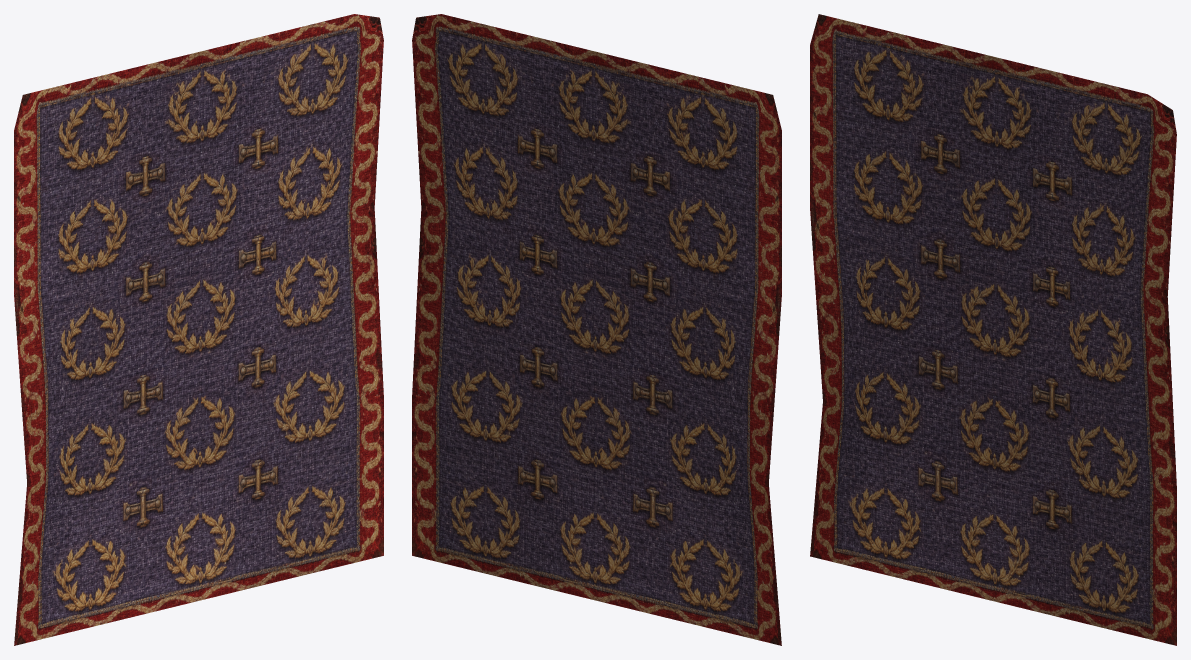
Rendered from mm9_deco_tapestry_purple.glb.
3 renders of one model, left to right at view 1: azimuth 30°, elevation 25°; view 2: azimuth 150°, elevation 25°; view 3: azimuth 330°, elevation 25°, orthographic.
Visible parts, largest first — view 1: Tapestry_purple; view 2: Tapestry_purple; view 3: Tapestry_purple.
Part boxes in pixels (x1,y1,x2,y2): Tapestry_purple: (14, 14, 383, 645); Tapestry_purple: (412, 14, 781, 645); Tapestry_purple: (810, 14, 1176, 645).
Size of the model in its own units: 1.63 by 2.31 by 2.59e-07.
Materials: 1 (1 with a texture image).
